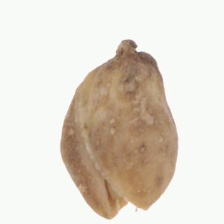L1: (102, 181, 149, 220), (110, 37, 157, 67)
L2: (58, 38, 178, 219)
